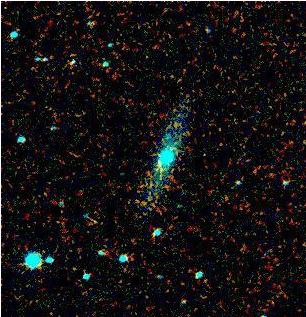star: (143, 152, 173, 182)
